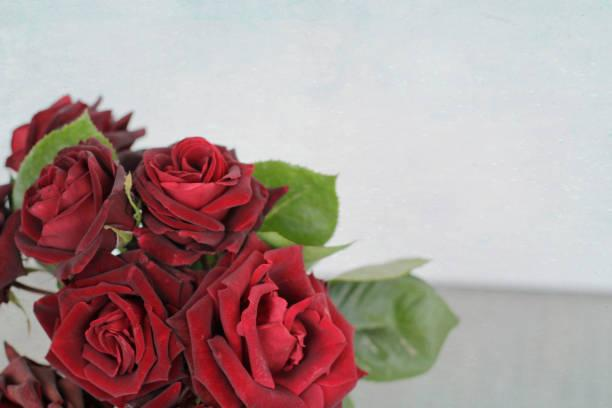organic: (0, 86, 365, 408)
